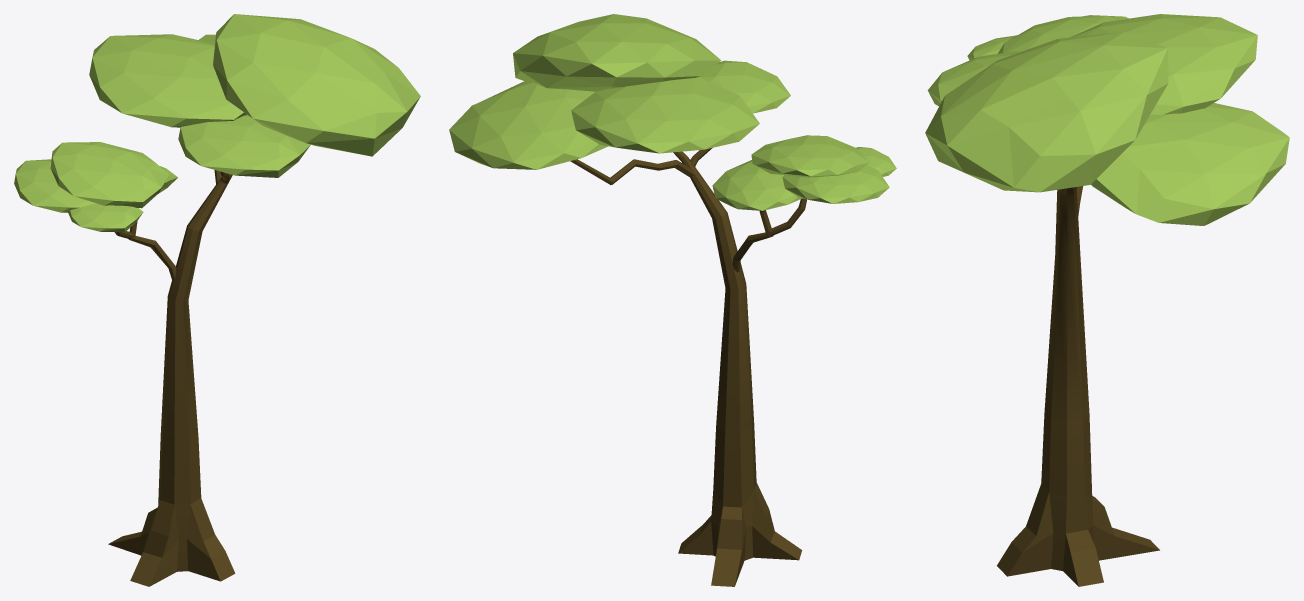
Rendered from SM_RF_AshTree_004.fbx.
3 renders of one model, left to right at view 1: azimuth 30°, elevation 25°; view 2: azimuth 150°, elevation 25°; view 3: azimuth 270°, elevation 25°, orthographic. The views are drawn at different scales.
Visible parts, largest first — view 1: SM_RF_AshTree_004; view 2: SM_RF_AshTree_004; view 3: SM_RF_AshTree_004.
Part boxes in pixels (x1,y1,x2,y2): SM_RF_AshTree_004: (14, 14, 420, 586); SM_RF_AshTree_004: (449, 14, 896, 586); SM_RF_AshTree_004: (925, 14, 1289, 586).
Bounding box in the file's own units: 1676 × 2079 × 1208.
